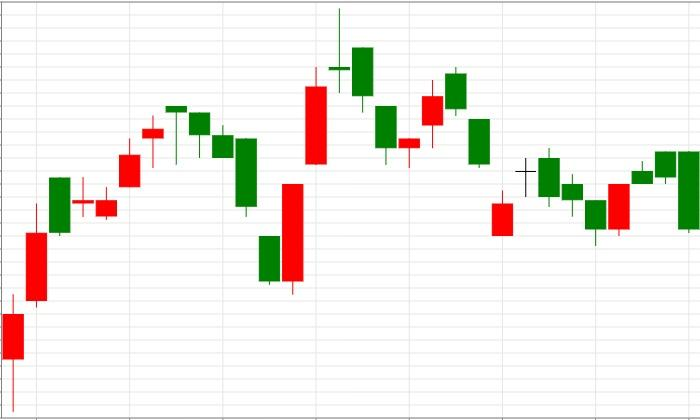bullish_engulfing_rise: (165, 105, 305, 294)
